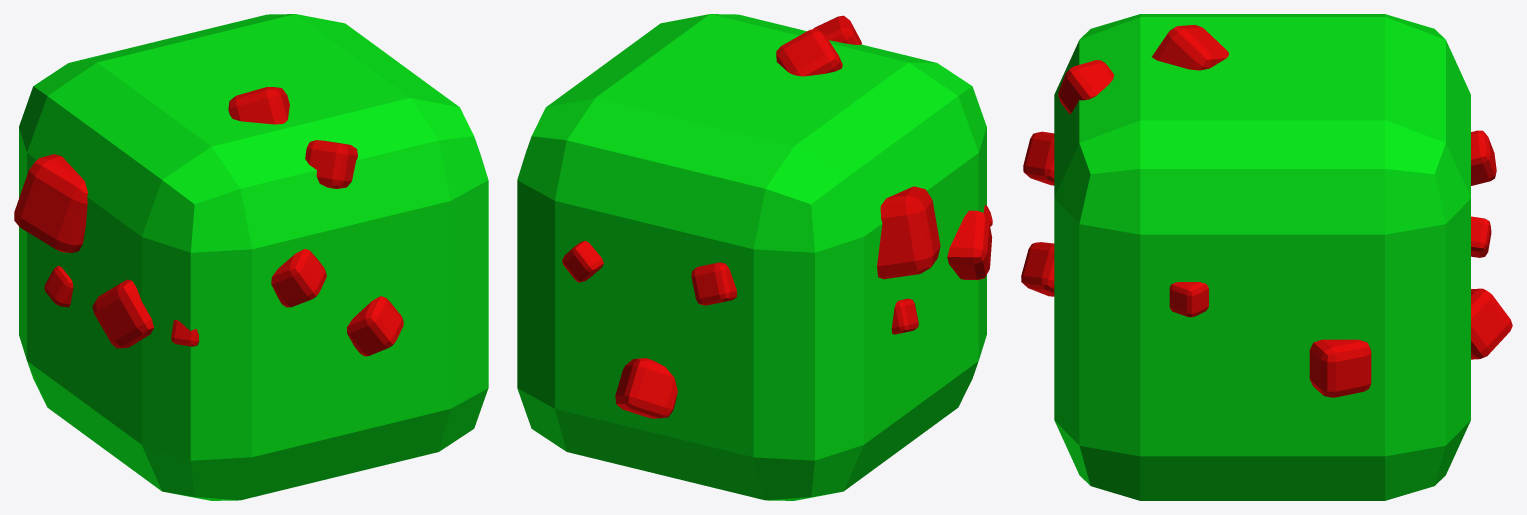
The model's file is SimpleBush.fbx.
3 views of the same model, side by side, from view 1: azimuth 30°, elevation 25°; view 2: azimuth 150°, elevation 25°; view 3: azimuth 270°, elevation 25° (orthographic). The views are drawn at different scales.
Parts seen in each view (by area): view 1: Grass, Berry; view 2: Grass, Berry; view 3: Grass, Berry.
Boxes of the visible parts, box(x1,y1,x2,y2) form: Grass: box(19, 14, 488, 500); Berry: box(14, 87, 403, 356); Grass: box(517, 14, 986, 500); Berry: box(562, 15, 992, 418); Grass: box(1054, 14, 1470, 500); Berry: box(1021, 25, 1512, 397).
Bounding box in the file's own units: 237 × 215 × 236.
